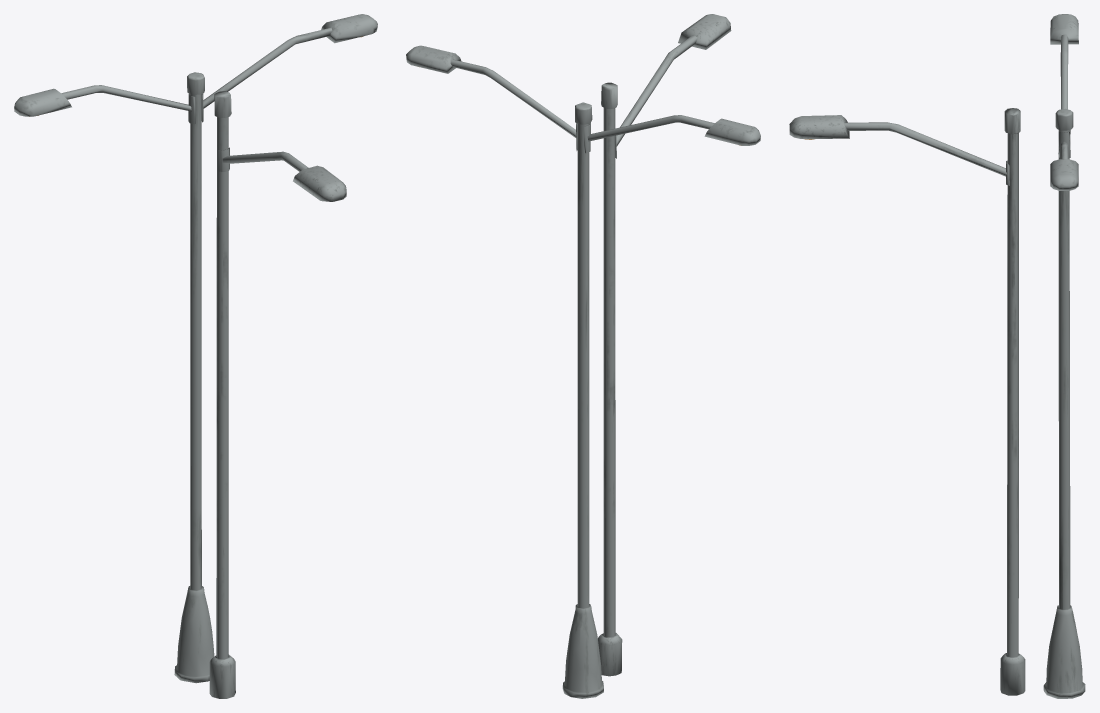
Rendered from Street lights.fbx.
3 views of the same model, side by side, from view 1: azimuth 30°, elevation 25°; view 2: azimuth 150°, elevation 25°; view 3: azimuth 270°, elevation 25° (orthographic). The views are drawn at different scales.
Visible parts, largest first — view 1: _gltfNode_3, _gltfNode_0; view 2: _gltfNode_3, _gltfNode_0; view 3: _gltfNode_3, _gltfNode_0.
Part boxes in pixels (x1=…): _gltfNode_3: x1=14, y1=14, x2=377, y2=683; _gltfNode_0: x1=209, y1=91, x2=346, y2=698; _gltfNode_3: x1=406, y1=45, x2=760, y2=698; _gltfNode_0: x1=598, y1=14, x2=731, y2=676; _gltfNode_3: x1=1043, y1=14, x2=1085, y2=698; _gltfNode_0: x1=789, y1=108, x2=1025, y2=695.
Size of the model in its own units: 346 by 568 by 255.
Materials: 4 (4 with a texture image).
